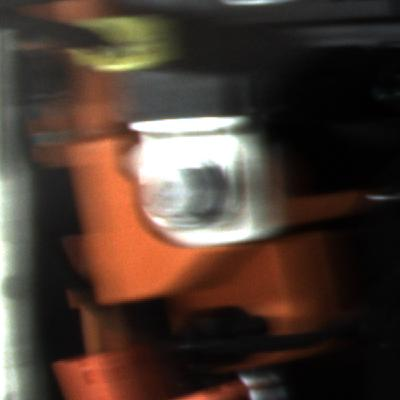nut_b: (139, 152, 229, 235)
